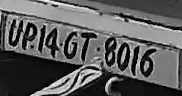0: (116, 42, 131, 74)
1: (36, 24, 49, 54), (131, 44, 141, 77)
4: (45, 26, 63, 59)
6: (139, 46, 158, 80)
8: (103, 35, 119, 68)
G: (62, 30, 80, 61)
P: (22, 22, 38, 51)
T: (78, 31, 98, 61)
U: (7, 18, 25, 48)
